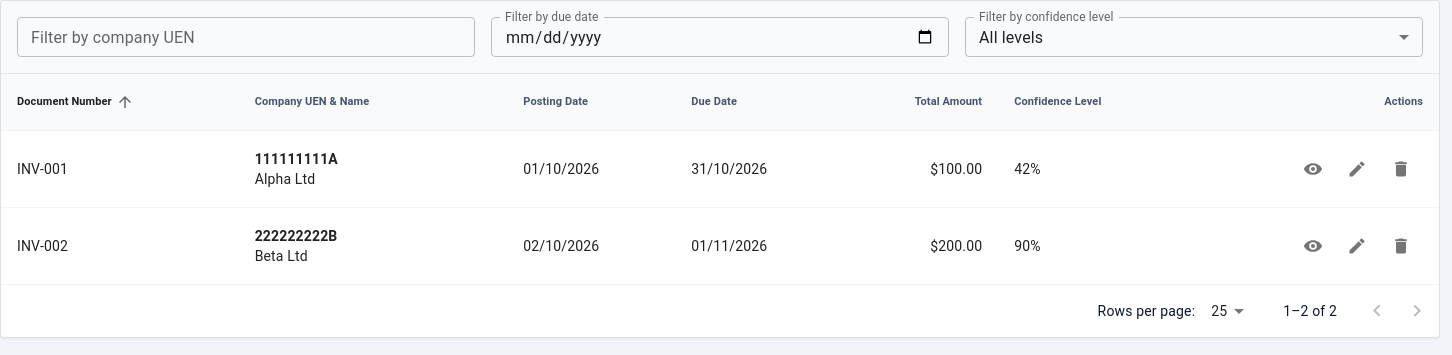
DocumentDataGrid › filters by company UEN and exposes recognizable row actions
Type "2222" into the field labelled "Filter by company UEN" at x=246, y=37, box [17,17,475,57]
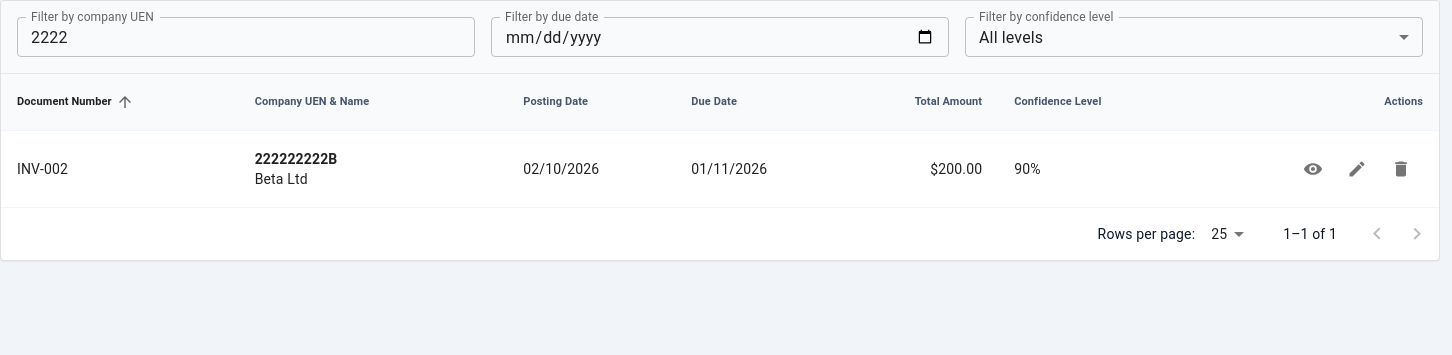
Expected: the text "INV-002" is shown, [1,131,239,208]
Now the text "INV-001" is gone
